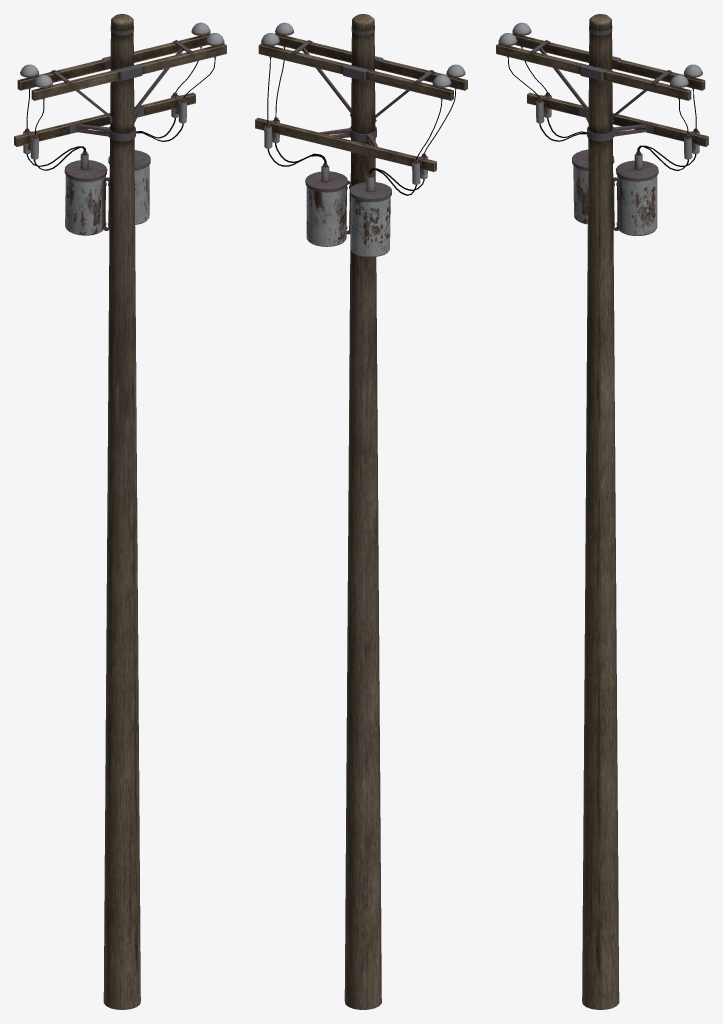
File: utility_pole_pbr.glb
3 views of the same model, side by side, from view 1: azimuth 30°, elevation 25°; view 2: azimuth 150°, elevation 25°; view 3: azimuth 330°, elevation 25° (orthographic).
Parts seen in each view (by area): view 1: Cylinder.009; view 2: Cylinder.009; view 3: Cylinder.009.
Boxes of the visible parts, x1,y1,x2,y2 form: Cylinder.009: (14,14,226,1009); Cylinder.009: (255,14,467,1009); Cylinder.009: (496,14,708,1009).
Size of the model in its own units: 93.12 by 455 by 31.07.
1 material, 1 textured.
